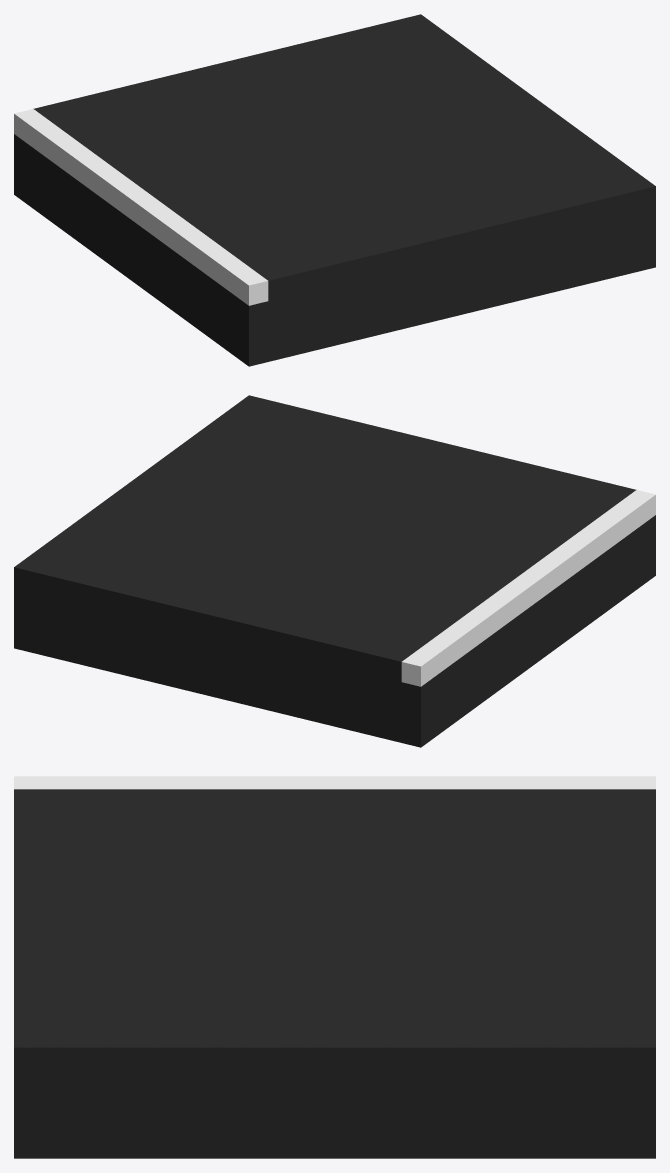
Rendered from Exports-4.obj.
3 views of the same model, one above another, from view 1: azimuth 30°, elevation 25°; view 2: azimuth 150°, elevation 25°; view 3: azimuth 270°, elevation 25° (orthographic). The views are drawn at different scales.
Size of the model in its own units: 2.1 by 0.4 by 2.1.
1 material, 1 textured.
